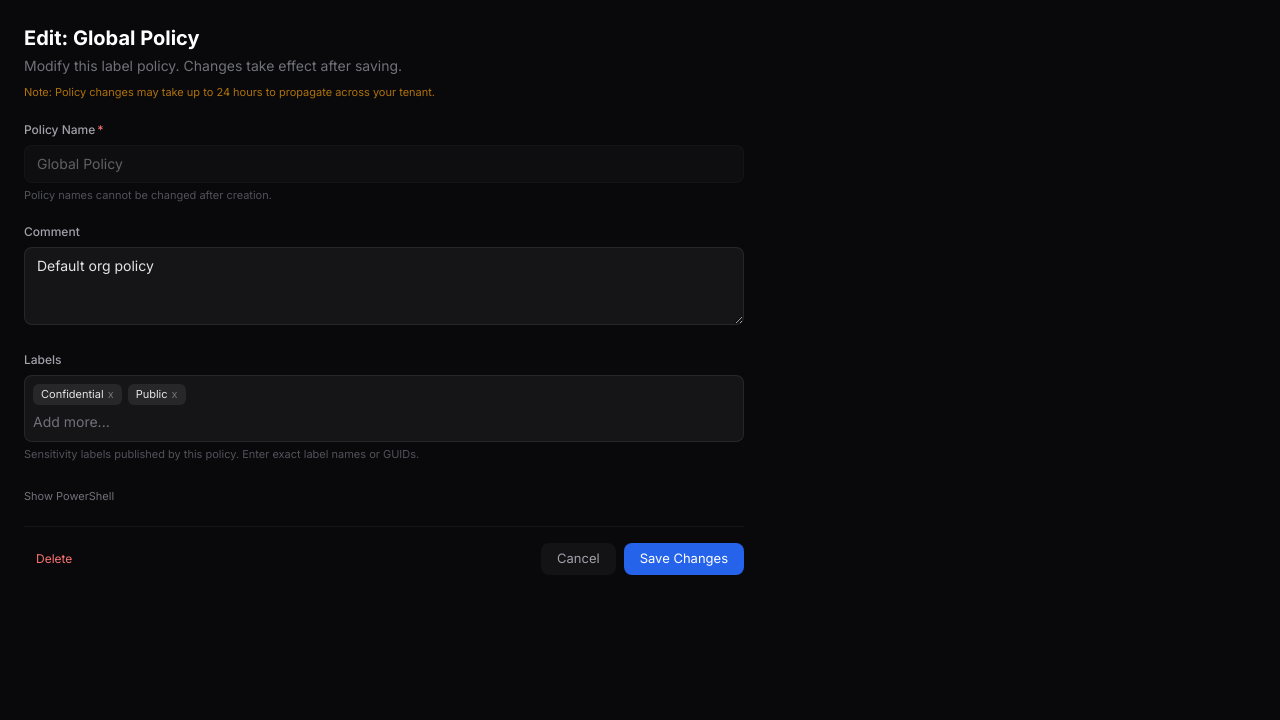
Scenario: PolicyForm › Edit Policy mode › shows delete confirmation dialog
Click the button "Delete": [54, 559] box x1=24 y1=544 x2=84 y2=574
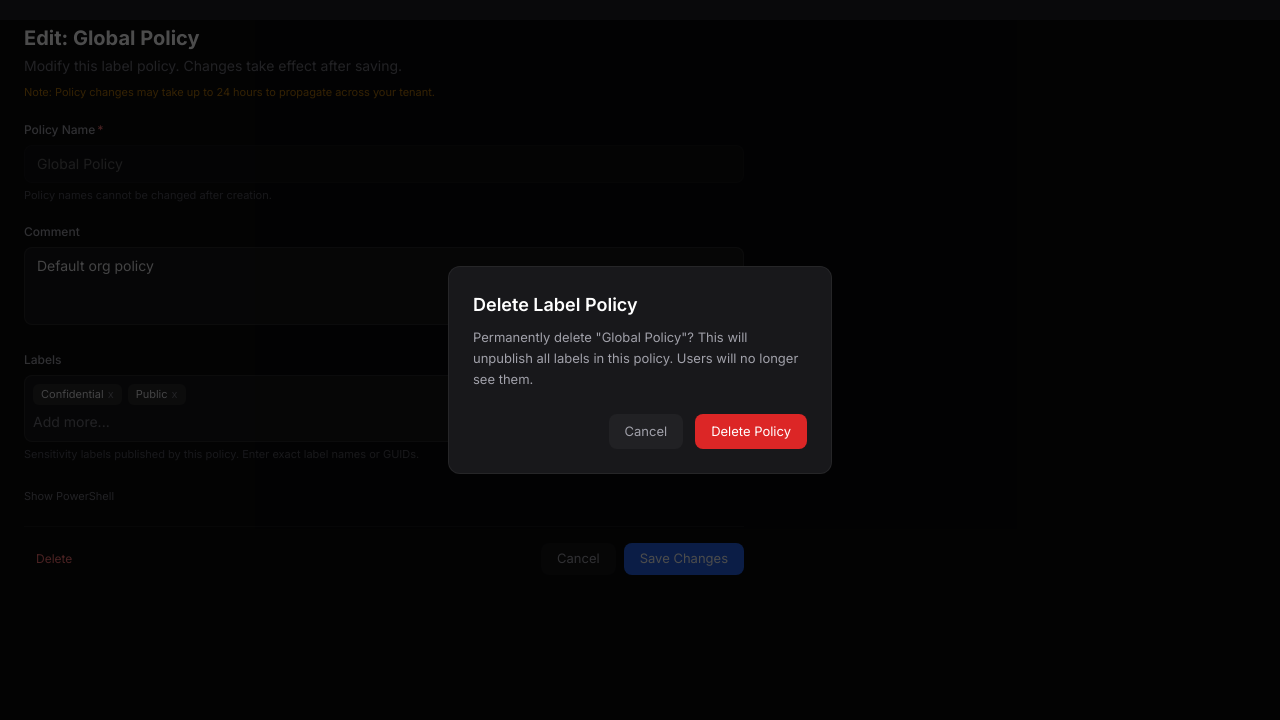
Check: the heading "Delete Label Policy" is shown, box x1=473 y1=294 x2=638 y2=315
Check: the text "This will unpublish all labels" is shown, box x1=473 y1=329 x2=798 y2=387
